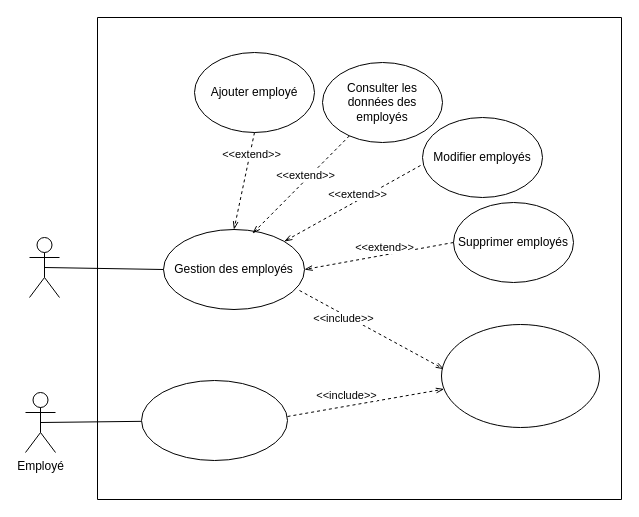
The diagram is 639 pixels wide and 517 high, and some of its shapes have lost their labels. The box of each missing label's shape, as (x1, y1, x2, y2) in pixels:
Admin: (28, 236, 60, 298)
Consulter le salaire et les transactions des prêts: (140, 380, 288, 460)
S'authentifier: (440, 324, 600, 428)
